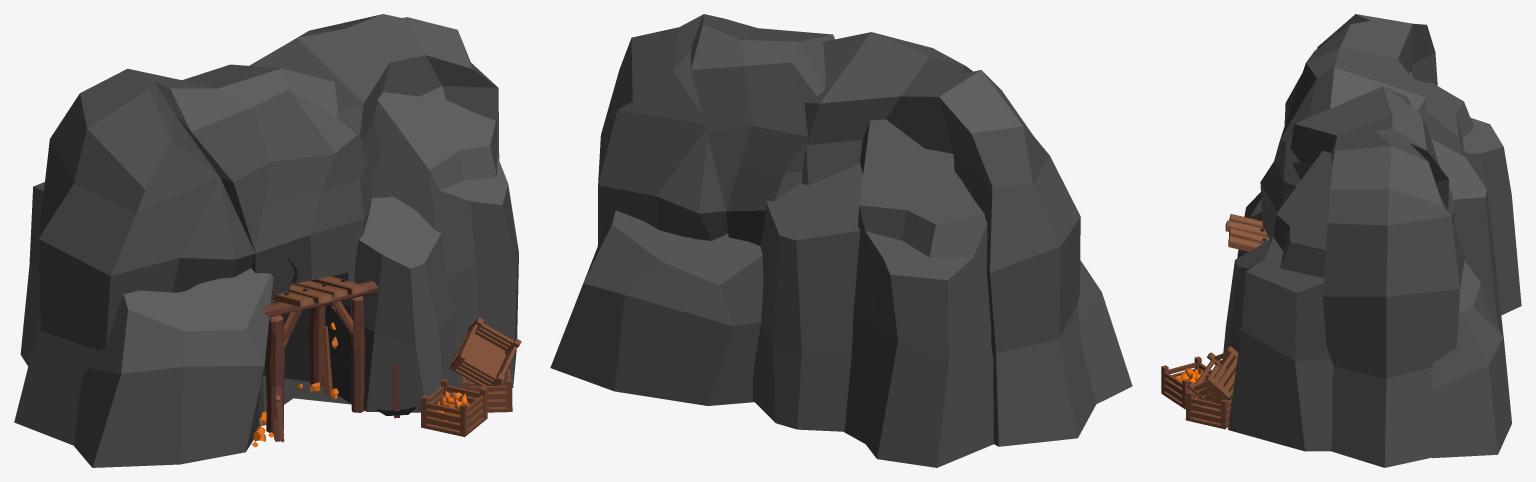
Rendered from iron_mine_2.fbx.
3 renders of one model, left to right at view 1: azimuth 30°, elevation 25°; view 2: azimuth 150°, elevation 25°; view 3: azimuth 270°, elevation 25°, orthographic. The views are drawn at different scales.
Visible parts, largest first — view 1: rock.005, box.012, box.010, box.011, iron_stones.003, pickaxe.002; view 2: rock.005; view 3: rock.005, box.012, box.010, box.011.
Part boxes in pixels (x1,y1,x2,y2): rock.005: (14,14,518,467); box.012: (449,317,521,392); box.010: (421,379,487,436); box.011: (461,362,512,412); iron_stones.003: (252,306,338,447); pickaxe.002: (377,364,416,418); rock.005: (550,14,1132,467); rock.005: (1222,14,1521,467); box.012: (1187,345,1237,402); box.010: (1161,356,1211,409); box.011: (1185,377,1232,429).
Bounding box in the file's own units: 455 × 296 × 320.
